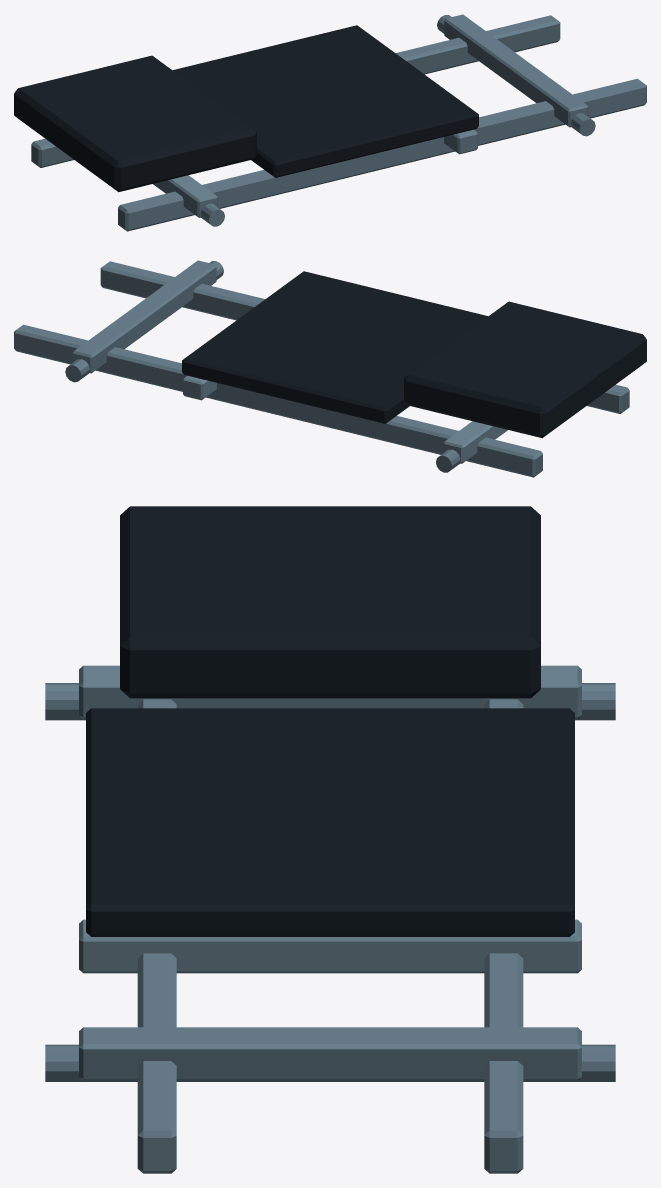
Rendered from QC_Chassis.fbx.
3 views of the same model, one above another, from view 1: azimuth 30°, elevation 25°; view 2: azimuth 150°, elevation 25°; view 3: azimuth 270°, elevation 25° (orthographic). The views are drawn at different scales.
Parts seen in each view (by area): view 1: QC_Chassis; view 2: QC_Chassis; view 3: QC_Chassis.
Boxes of the visible parts, x1,y1,x2,y2 form: QC_Chassis: (14,14,646,231); QC_Chassis: (14,260,646,477); QC_Chassis: (45,506,615,1173).
Bounding box in the file's own units: 3.64 × 0.49 × 1.68.
